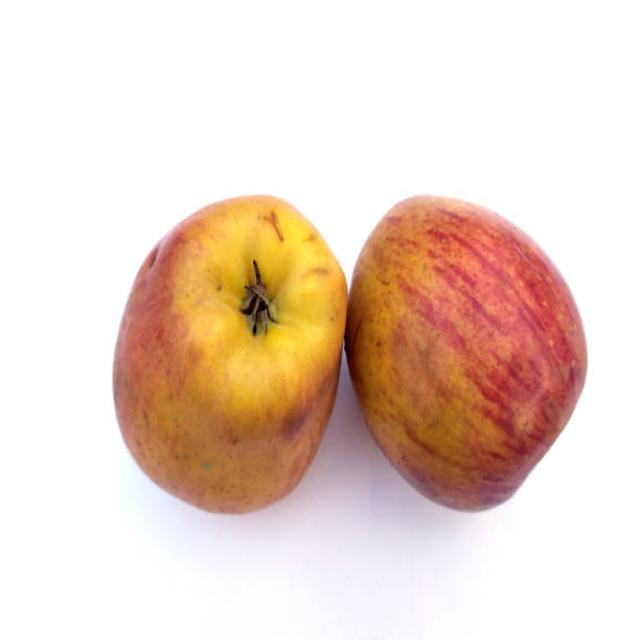overripe: (106, 186, 349, 520), (349, 185, 593, 516)
